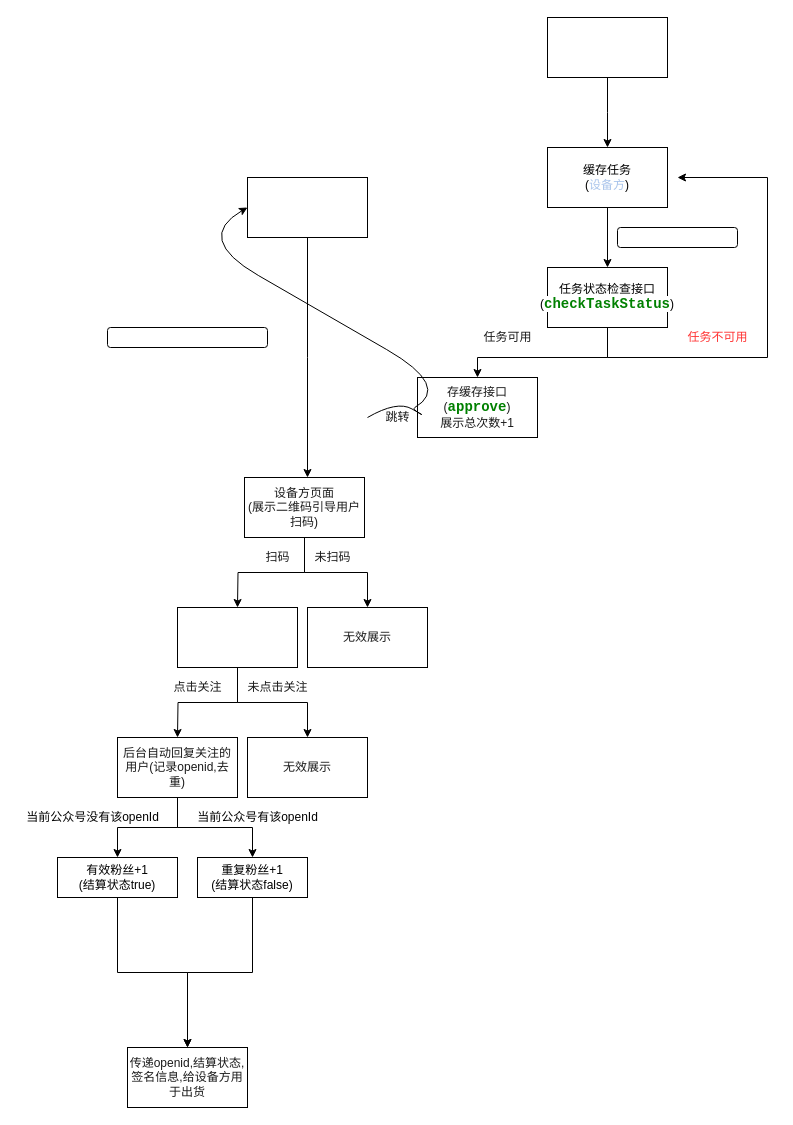
This 793x1125 diagram has some shape labels left out. Each missing label, with the centre of its shape:
channelCode,orderId,url: point (187, 337)
前端HTML (缓存channelCode,orderId,跳转到参数URL): point (307, 207)
取出任务A检查可用性: point (677, 237)
弹出公众号展示页面 (关注按钮): point (237, 637)
获取任务接口 ( getAllTask ): point (607, 47)
